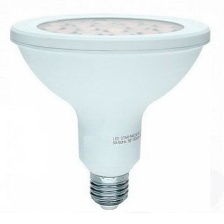light_bulb: (9, 9, 215, 216)
